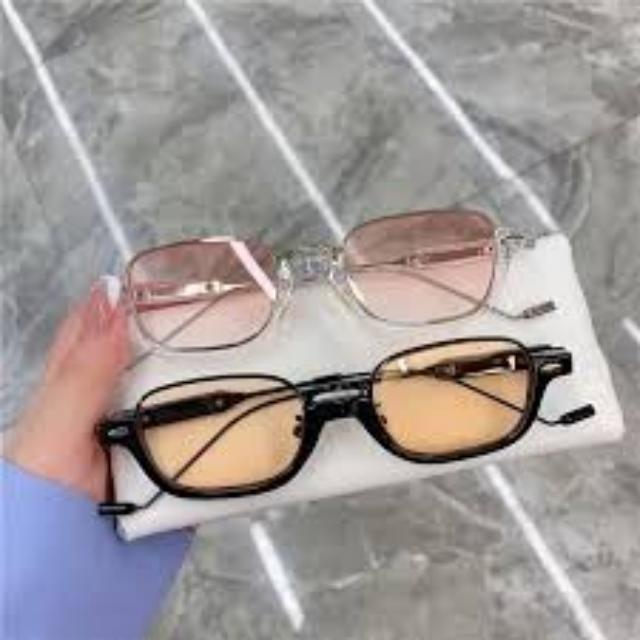glasses: (93, 328, 623, 526), (112, 196, 564, 344)
